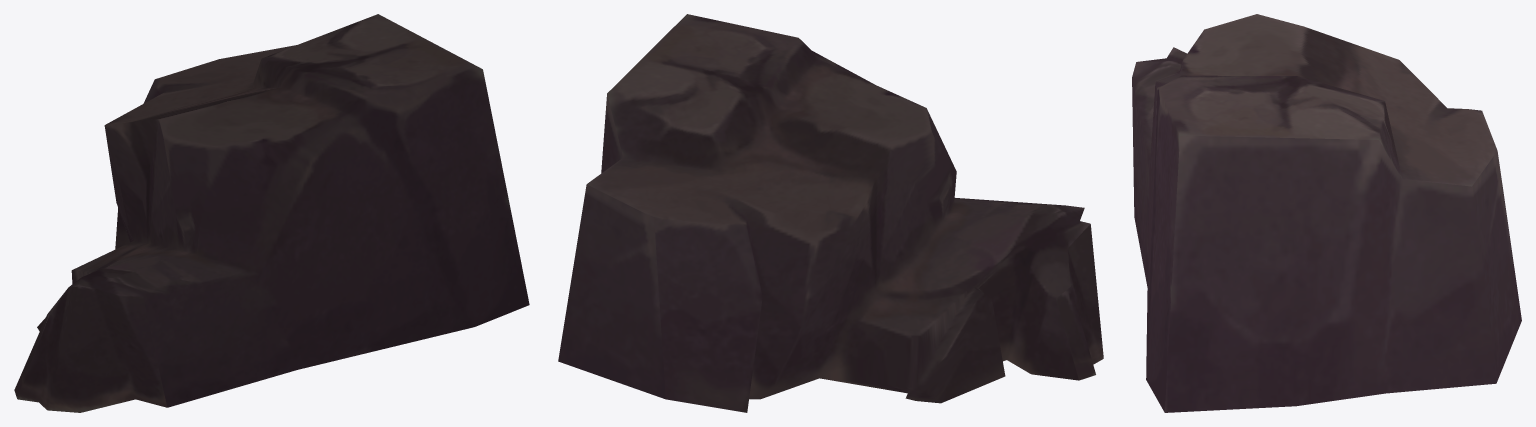
Rendered from jainzhufeiliao_05.FBX.
3 renders of one model, left to right at view 1: azimuth 30°, elevation 25°; view 2: azimuth 150°, elevation 25°; view 3: azimuth 270°, elevation 25°, orthographic. The views are drawn at different scales.
Visible parts, largest first — view 1: 对象001; view 2: 对象001; view 3: 对象001.
Part boxes in pixels (<box>): 对象001: <box>14,14,529,412</box>; 对象001: <box>558,14,1103,412</box>; 对象001: <box>1132,14,1521,412</box>.
Bounding box in the file's own units: 317 × 152 × 208.
